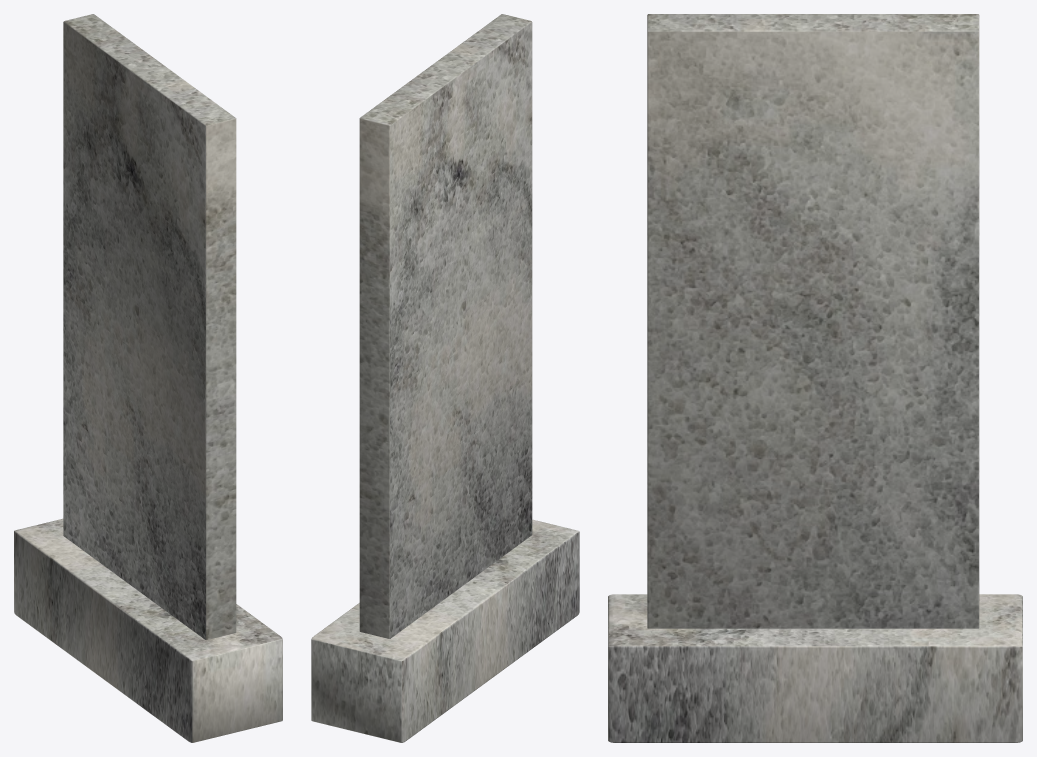
File: Прямой мрамор [marble_1_muslim] (80).glb
3 renders of one model, left to right at view 1: azimuth 30°, elevation 25°; view 2: azimuth 150°, elevation 25°; view 3: azimuth 270°, elevation 25°, orthographic. The views are drawn at different scales.
Parts seen in each view (by area): view 1: Cube.029, Куб.011; view 2: Cube.029, Куб.011; view 3: Cube.029, Куб.011.
Boxes of the visible parts, <box> form: Cube.029: <box>63,14,236,639</box>; Куб.011: <box>14,518,282,742</box>; Cube.029: <box>359,14,532,638</box>; Куб.011: <box>311,519,579,742</box>; Cube.029: <box>647,14,979,628</box>; Куб.011: <box>608,594,1022,742</box>.
Bounding box in the file's own units: 0.15 × 0.9247 × 0.5.
1 material, 1 textured.
